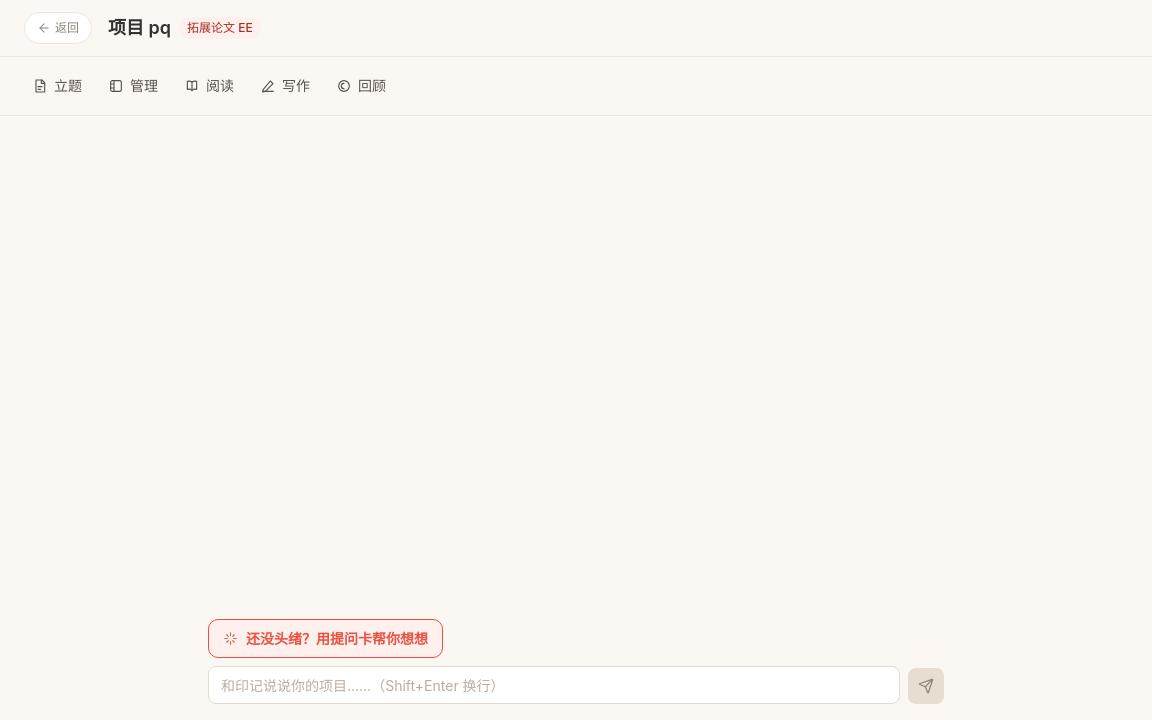
WorkspaceContainer › a reply with a question renders a confirm chip; confirming creates an exploration lead
Type "这里有个问题" into the text box with placeholder "和印记说说你的项目……（Shift+Enter 换行）".
click(554, 685); type("这里有个问题")  # box 208,666 -> 900,704
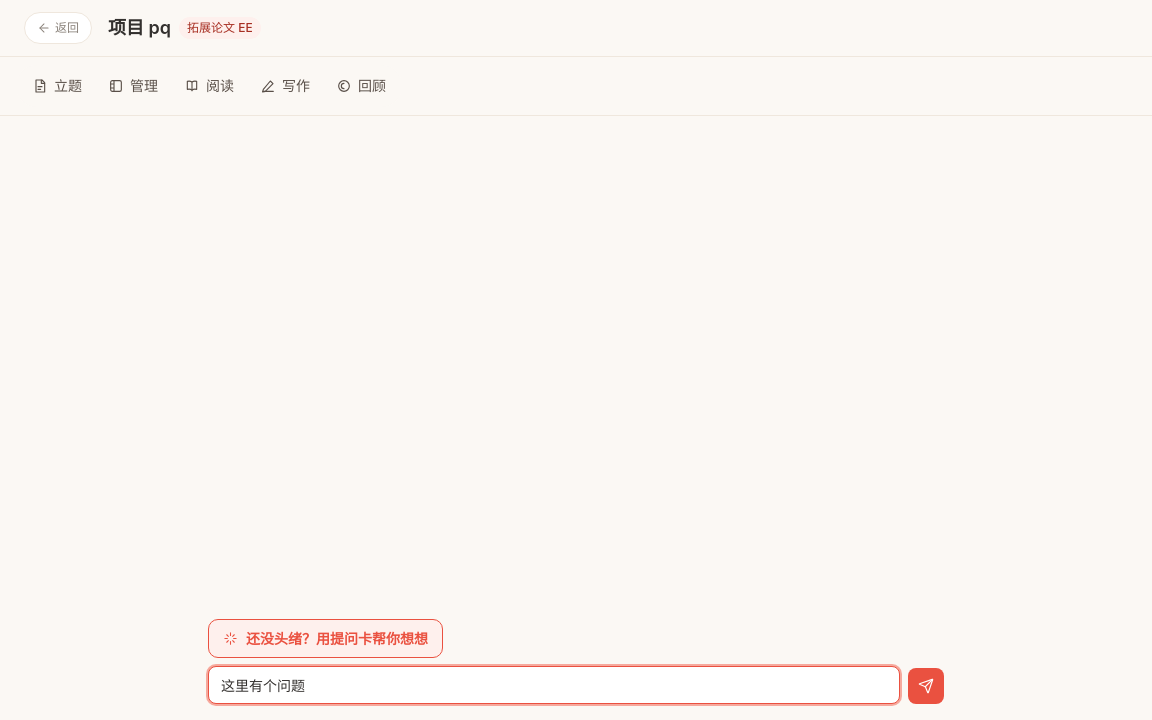
Click the button named "发送".
click(926, 686)  # box 908,668 -> 944,704
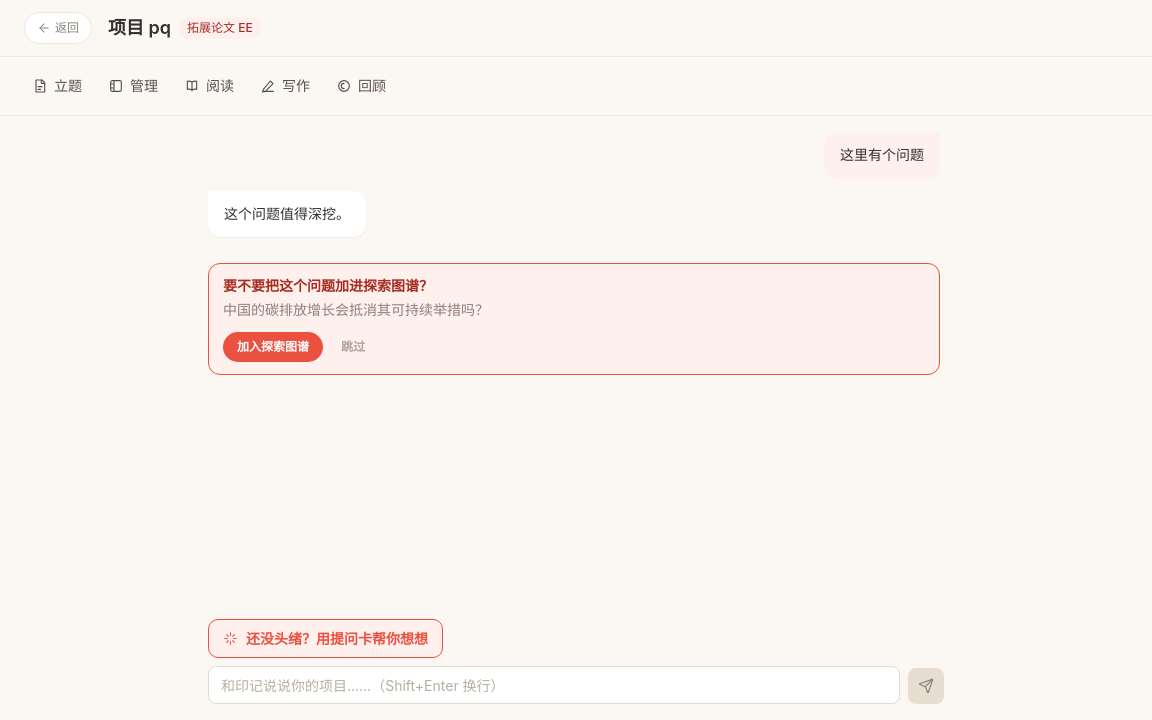
Click the button "加入探索图谱".
click(273, 347)  # box 223,332 -> 323,362
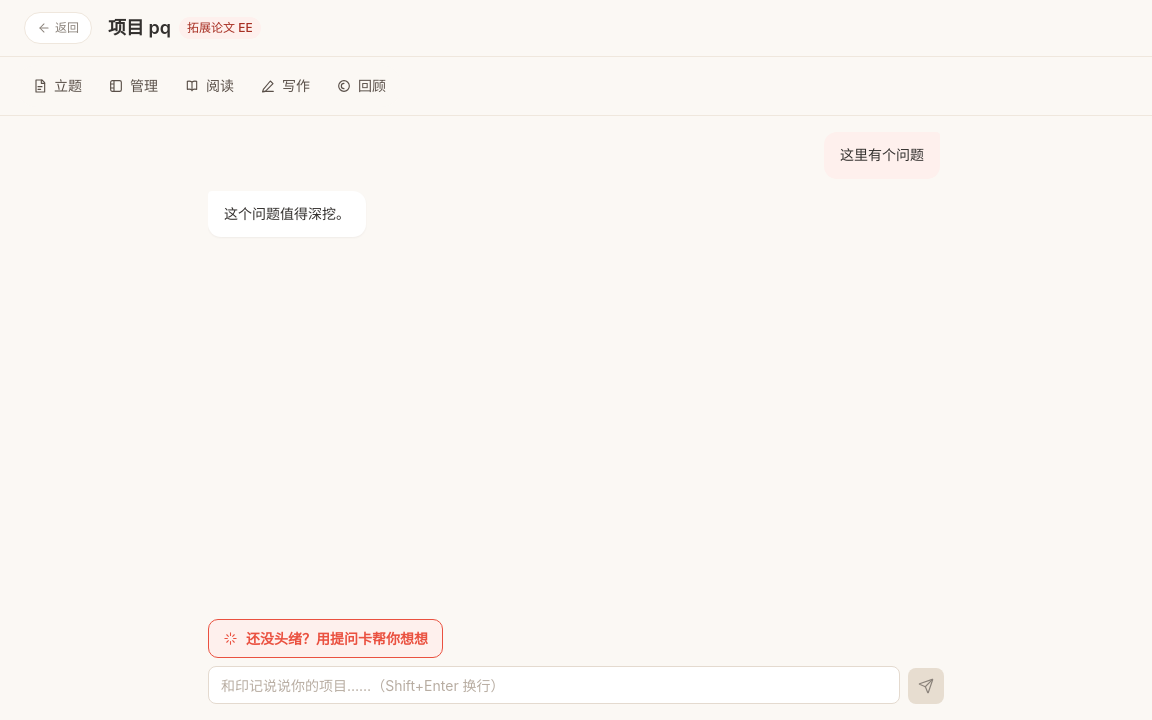
Expected: the button "加入探索图谱" is gone
